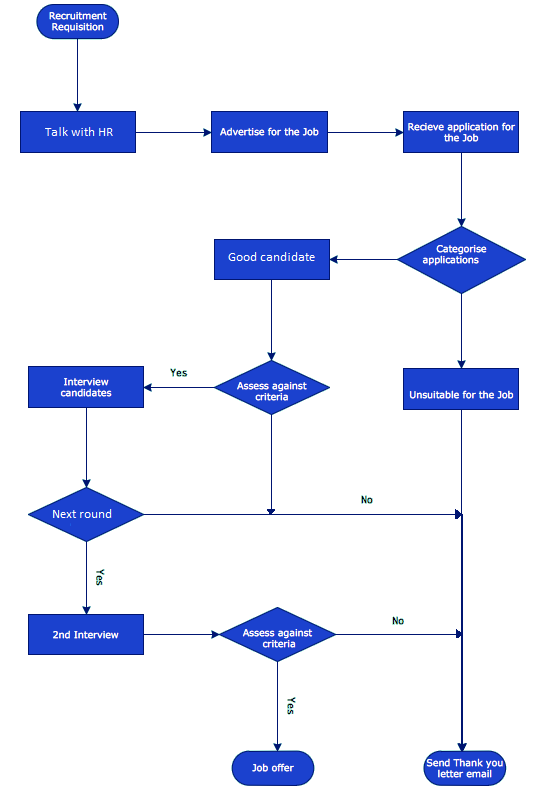arrow: (455, 409, 472, 755), (134, 509, 463, 523), (326, 628, 464, 642), (264, 409, 279, 514), (264, 277, 281, 366), (78, 537, 97, 615), (325, 253, 403, 270), (454, 152, 470, 229), (80, 407, 95, 488), (131, 126, 213, 140), (141, 379, 221, 393), (455, 291, 468, 371), (143, 628, 223, 640), (72, 36, 84, 113), (323, 126, 405, 137), (273, 660, 282, 753)
decision: (396, 225, 528, 299), (219, 605, 341, 666), (23, 487, 151, 543), (213, 361, 332, 417)
process: (397, 364, 525, 415), (15, 107, 140, 159), (23, 362, 149, 413), (211, 234, 334, 285), (22, 609, 149, 658), (399, 108, 523, 158), (207, 107, 332, 155)
terminator: (32, 1, 121, 43), (420, 747, 507, 789), (229, 749, 316, 789)
text: (405, 119, 515, 141), (423, 754, 507, 782), (240, 625, 319, 652), (233, 378, 310, 403), (419, 241, 490, 268), (216, 123, 320, 140), (404, 387, 515, 401), (225, 248, 320, 264), (46, 7, 109, 31), (56, 375, 116, 400), (43, 124, 116, 141), (49, 506, 115, 522), (49, 628, 122, 641), (249, 759, 296, 775), (282, 694, 297, 719), (167, 365, 190, 381), (93, 565, 107, 591), (388, 614, 409, 628), (358, 491, 375, 506)
